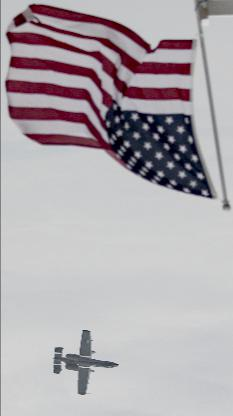A10: (52, 330, 118, 396)
